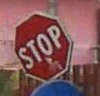stop: (13, 10, 72, 83)
